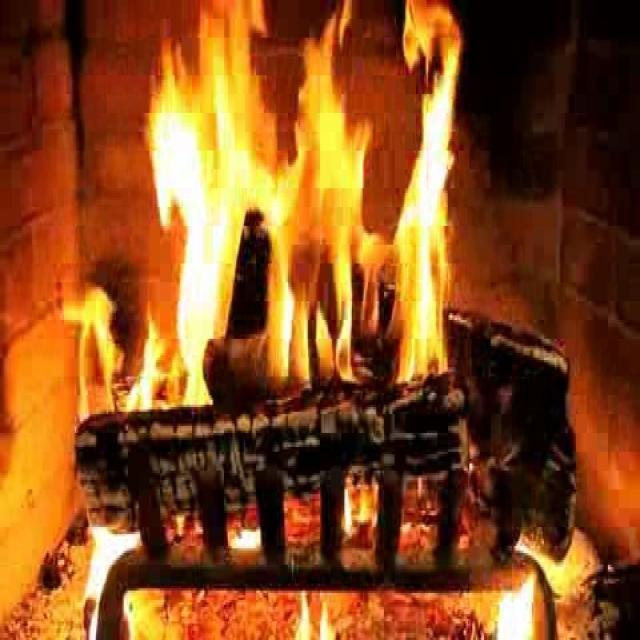Fire: (142, 9, 451, 405)
